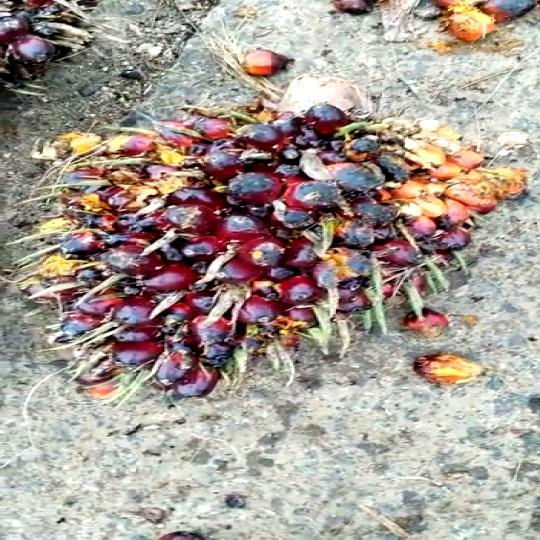masak: (23, 82, 523, 417)
